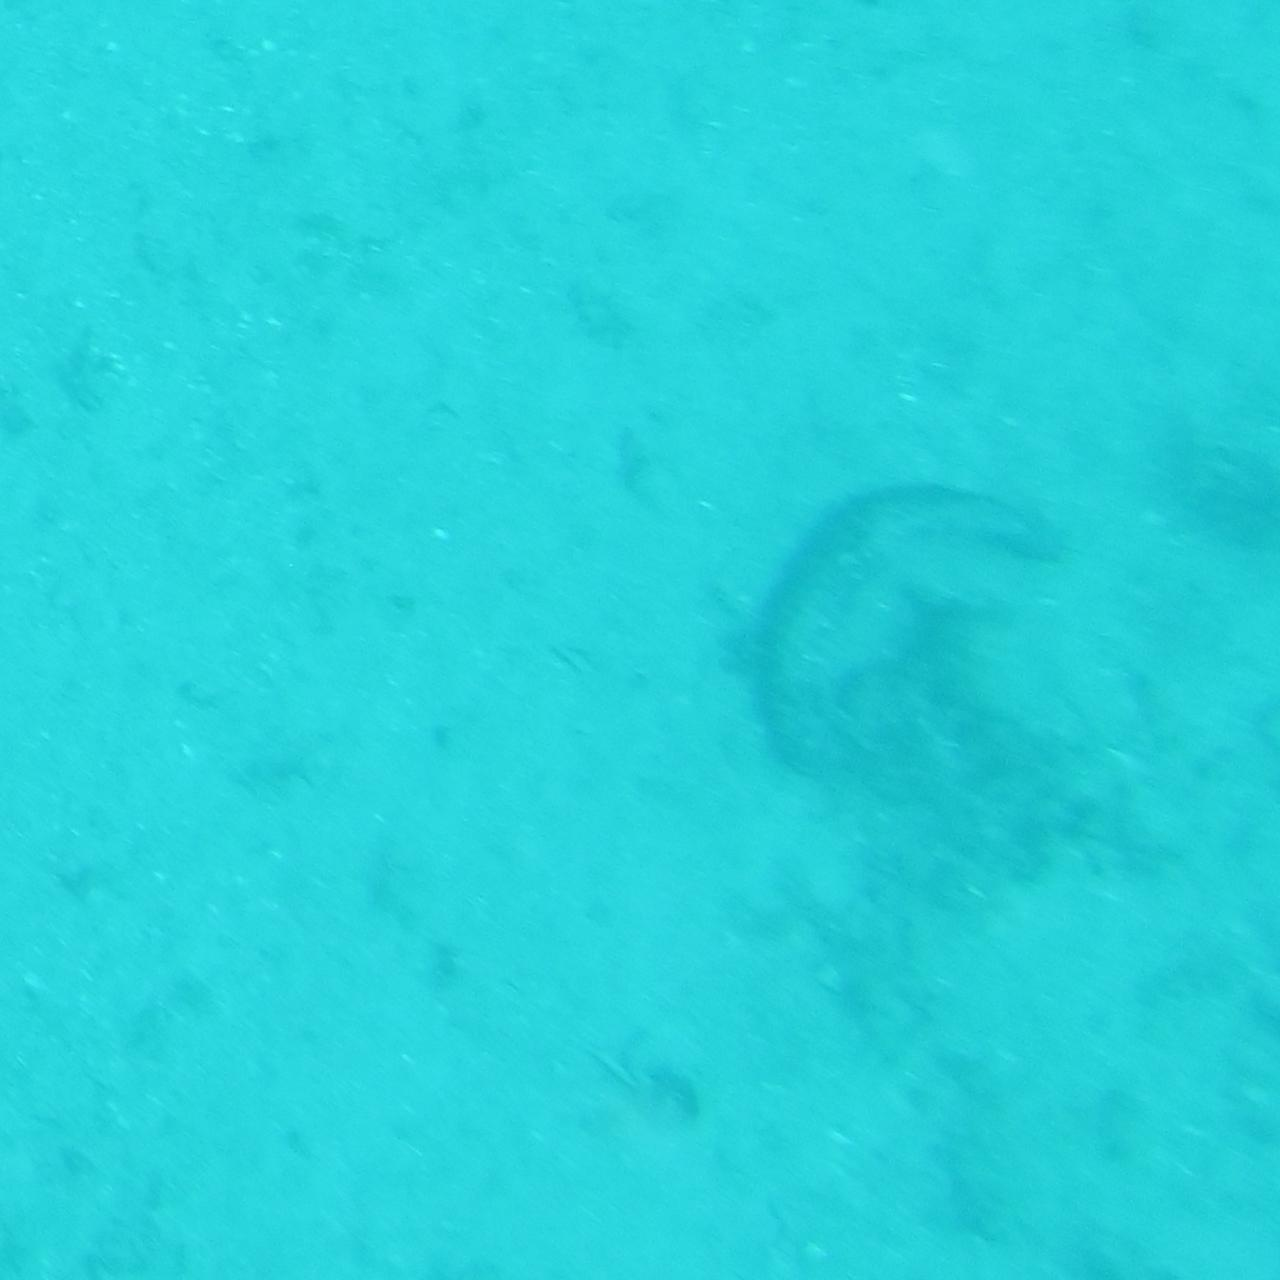Holothuria tubulosa: (738, 478, 1083, 802)
